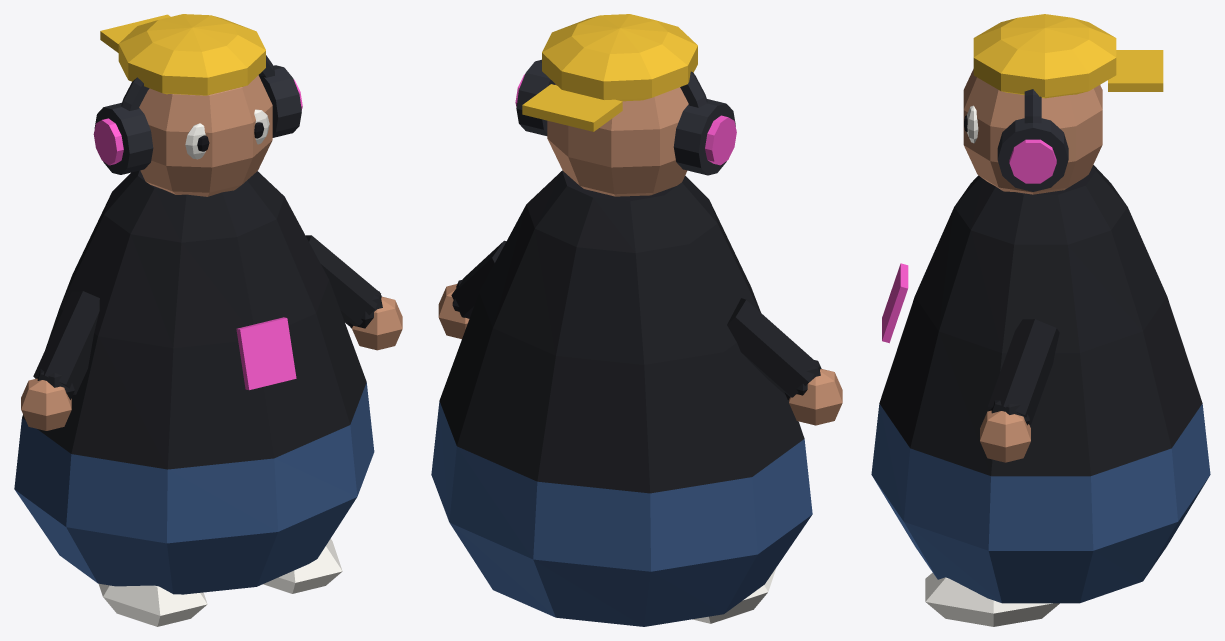
The model's file is npc_toto.glb.
The picture shows the model from 3 angles, left to right: view 1: azimuth 30°, elevation 25°; view 2: azimuth 150°, elevation 25°; view 3: azimuth 270°, elevation 25°; orthographic projection. The views are drawn at different scales.
Parts seen in each view (by area): view 1: body_toto_shirt, body_toto_jeans, head_skin_toto, cap_toto_cap, arms_toto_shirt, phones_toto_phones, legs_toto_shoes, arms_skin_toto, note_toto_note, phones_toto_pad, face_white; view 2: body_toto_shirt, body_toto_jeans, cap_toto_cap, head_skin_toto, arms_toto_shirt, phones_toto_phones, arms_skin_toto, phones_toto_pad, legs_toto_shoes; view 3: body_toto_shirt, body_toto_jeans, cap_toto_cap, head_skin_toto, arms_toto_shirt, legs_toto_shoes, phones_toto_phones, arms_skin_toto, phones_toto_pad, note_toto_note.
Boxes of the visible parts, x1,y1,x2,y2 form: body_toto_shirt: (22, 170, 366, 469); body_toto_jeans: (14, 382, 374, 594); head_skin_toto: (139, 75, 272, 196); cap_toto_cap: (100, 14, 265, 95); arms_toto_shirt: (33, 235, 382, 399); phones_toto_phones: (94, 55, 301, 174); legs_toto_shoes: (98, 539, 342, 626); arms_skin_toto: (21, 296, 402, 430); note_toto_note: (236, 317, 296, 390); phones_toto_pad: (93, 79, 302, 165); face_white: (185, 109, 269, 159); body_toto_shirt: (439, 170, 804, 493); body_toto_jeans: (431, 401, 812, 626); cap_toto_cap: (522, 14, 697, 131); head_skin_toto: (547, 84, 688, 196); arms_toto_shirt: (451, 240, 821, 399); phones_toto_phones: (516, 59, 735, 175); arms_skin_toto: (438, 284, 842, 425); phones_toto_pad: (515, 74, 736, 165); legs_toto_shoes: (692, 567, 776, 623); body_toto_shirt: (879, 165, 1202, 476); body_toto_jeans: (871, 404, 1210, 603); cap_toto_cap: (973, 14, 1163, 98); head_skin_toto: (963, 69, 1102, 194); arms_toto_shirt: (988, 319, 1059, 425); legs_toto_shoes: (925, 572, 1059, 626); phones_toto_phones: (997, 89, 1068, 191); arms_skin_toto: (980, 410, 1030, 462); phones_toto_pad: (1009, 139, 1056, 183); note_toto_note: (882, 263, 908, 343).
Size of the model in its own units: 1.13 by 1.56 by 0.86.
